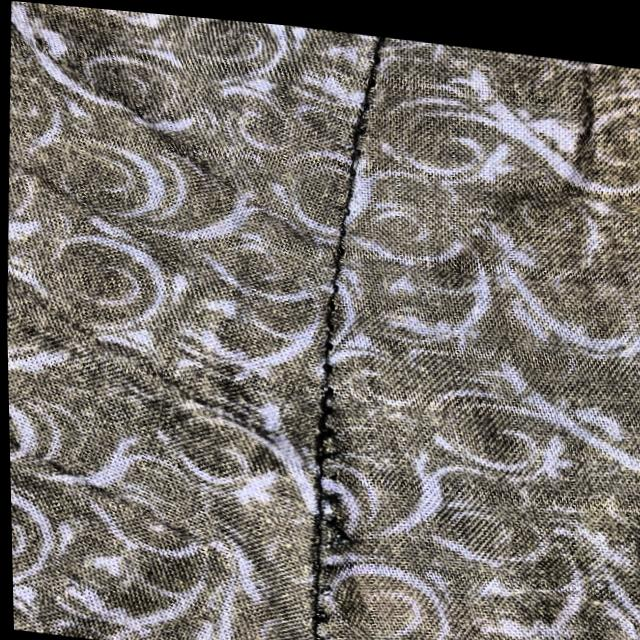seam: (278, 302, 374, 640)
